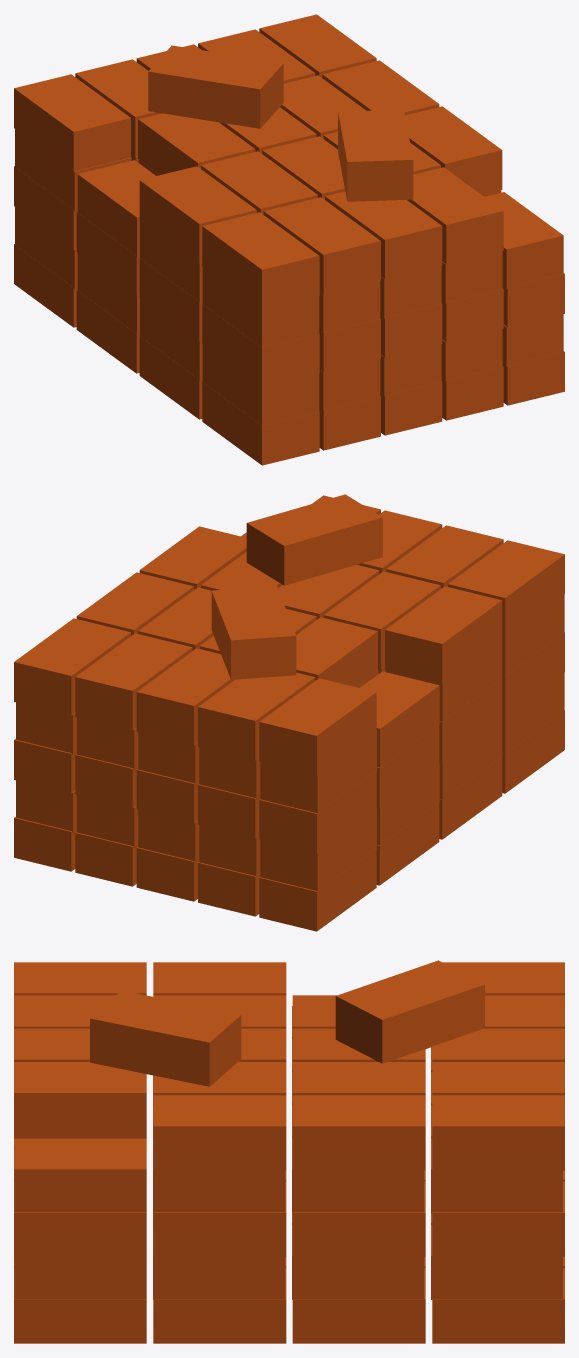
3 views of the same model, one above another, from view 1: azimuth 30°, elevation 25°; view 2: azimuth 150°, elevation 25°; view 3: azimuth 270°, elevation 25° (orthographic). The views are drawn at different scales.
Parts seen in each view (by area): view 1: A-3; view 2: A-3; view 3: A-3.
Part boxes in pixels (left/top/right/bottom): A-3: left=14, top=14, right=564, bottom=465; A-3: left=14, top=494, right=564, bottom=931; A-3: left=14, top=960, right=564, bottom=1343.
Size of the model in its own units: 306 by 227 by 434.
